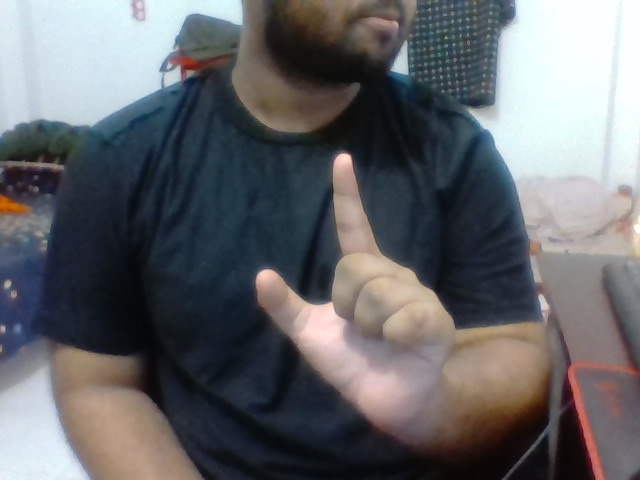J: (233, 145, 470, 424)
